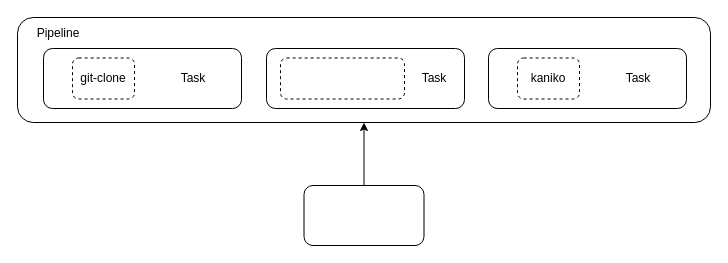
Image size: 728x263. Some labels were removed from this diagram. Here are the shapes that lost their labels. From the top down, the centre of each, then its label:
At pixel 342 78: "sonarqube-scanner".
At pixel 363 215: "PipelineRun".
